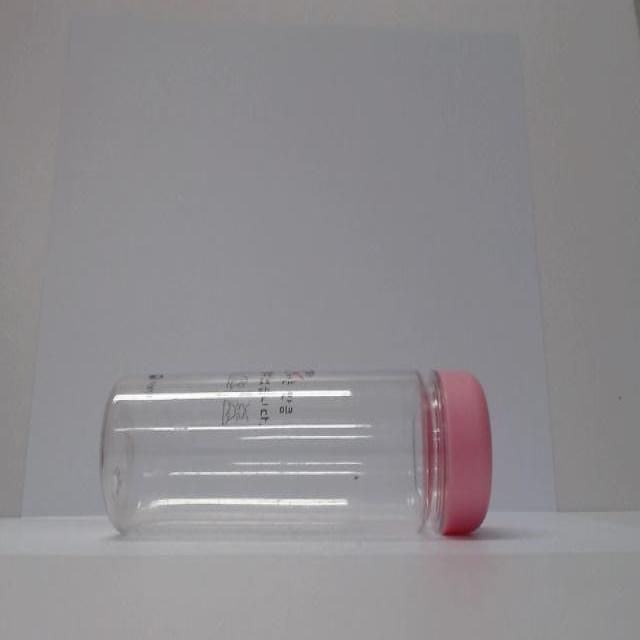bottle: (96, 356, 496, 556)
